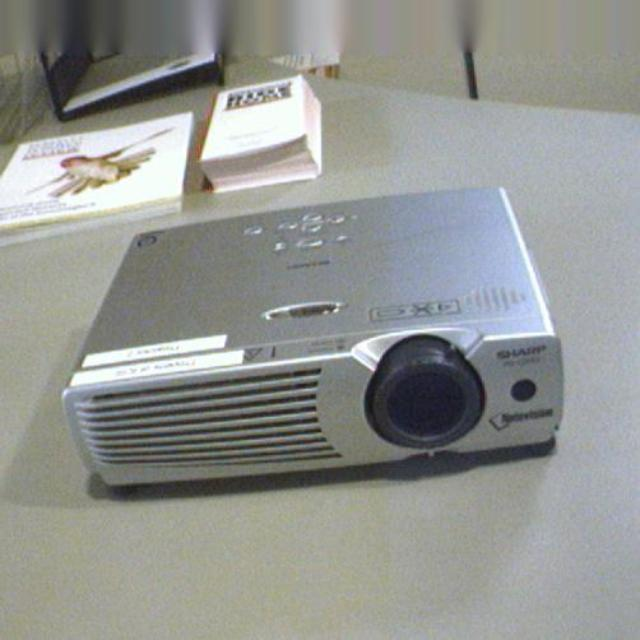Projector: (58, 188, 566, 497)
